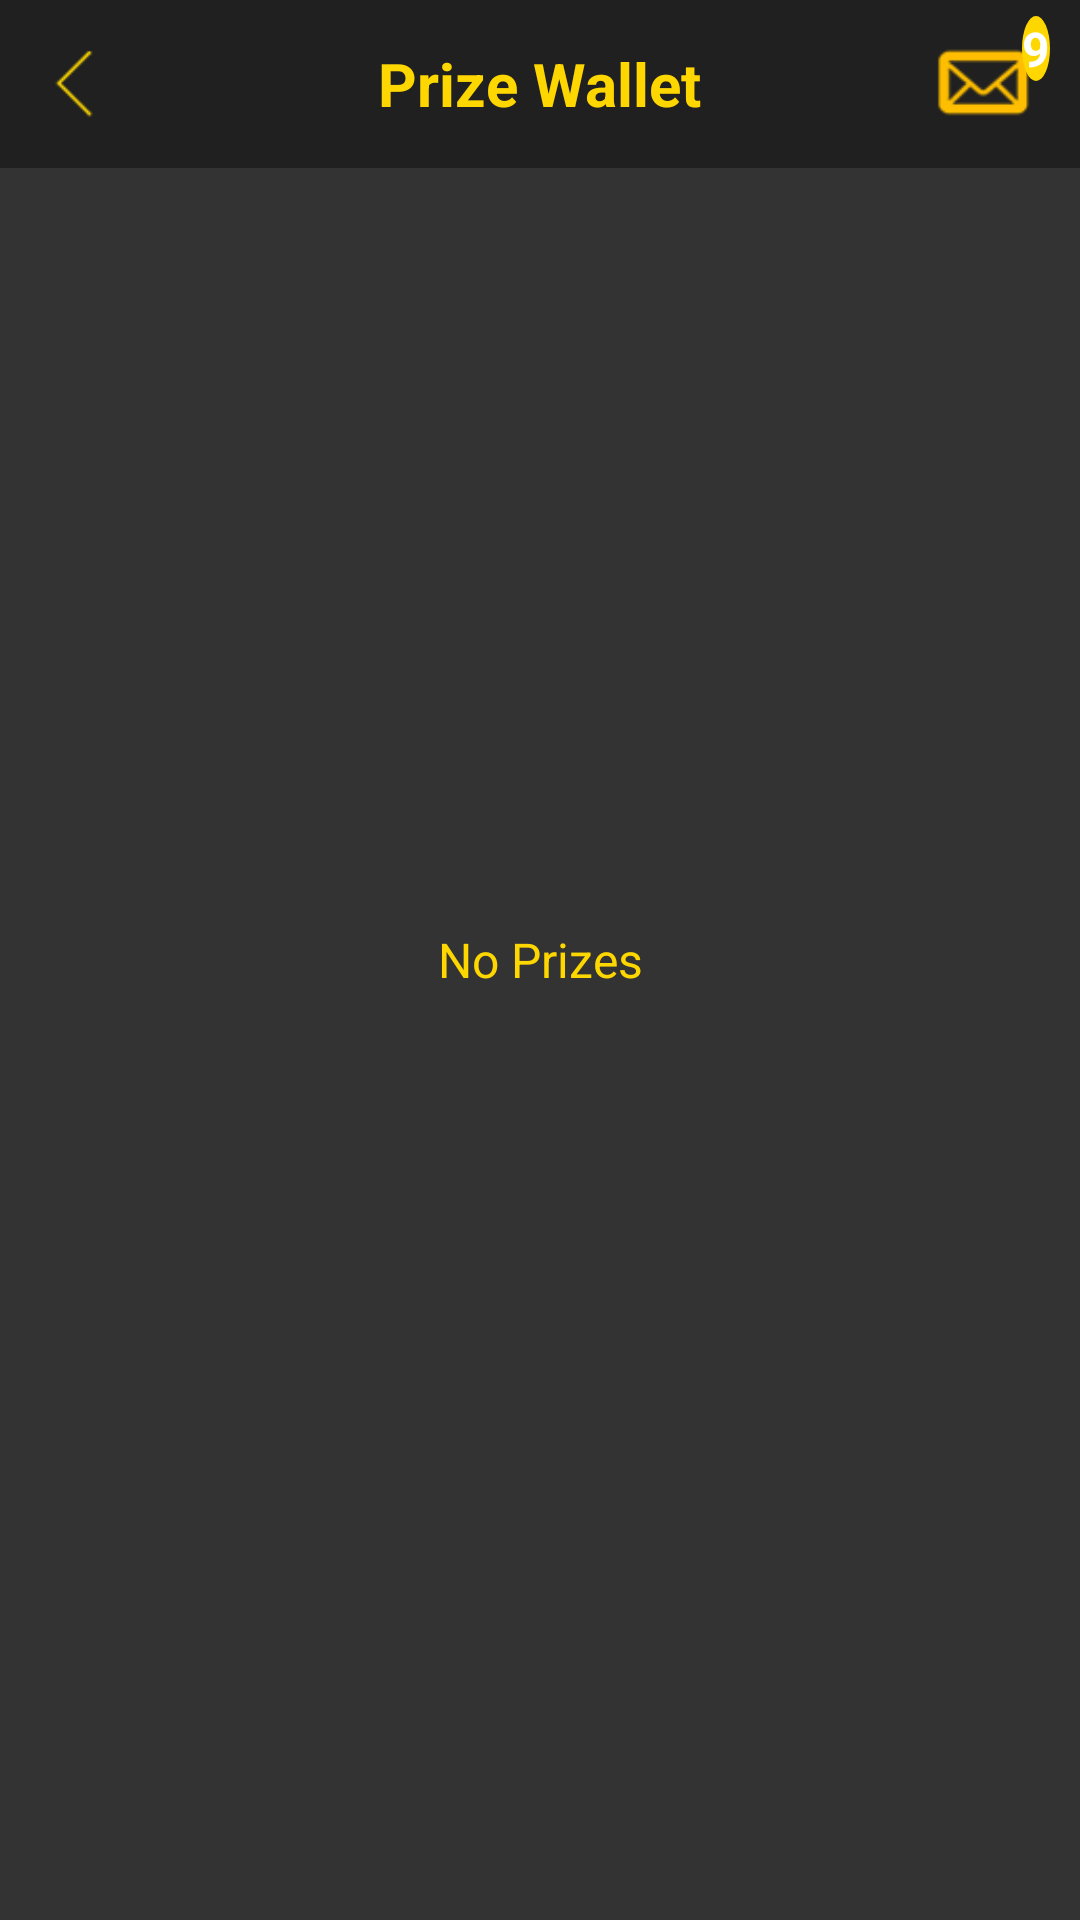

Icon click points for this 1080px×1920px phone screenshot, format [x,y]:
back: [74,84]
inbox: [994,65]
